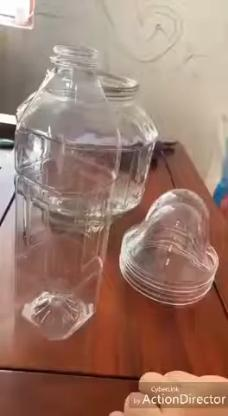Plastic Bottle: (17, 45, 121, 341)
